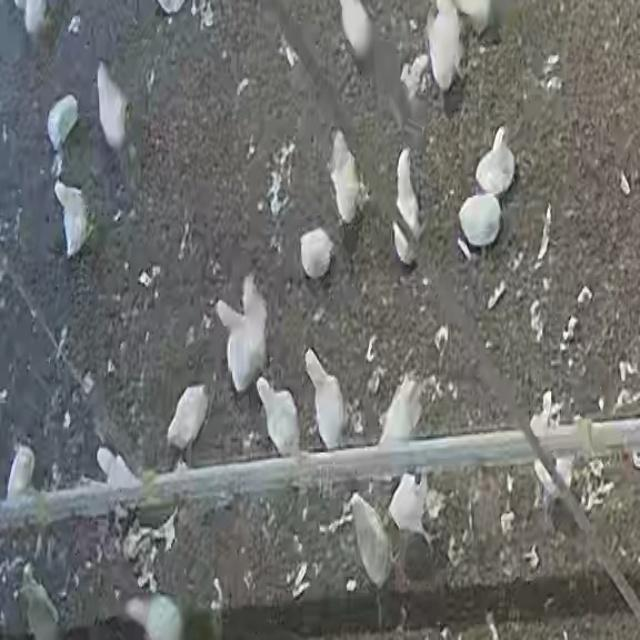chicken: (216, 274, 269, 394), (349, 494, 395, 592), (304, 349, 347, 449), (328, 129, 371, 222), (255, 378, 300, 459), (92, 56, 130, 150), (166, 383, 210, 461), (378, 375, 424, 448), (427, 0, 463, 93), (53, 178, 97, 254), (388, 470, 432, 542), (475, 126, 516, 197), (395, 149, 420, 263), (457, 193, 502, 249), (96, 445, 144, 491), (42, 90, 79, 149), (299, 225, 335, 279), (5, 444, 36, 497)
